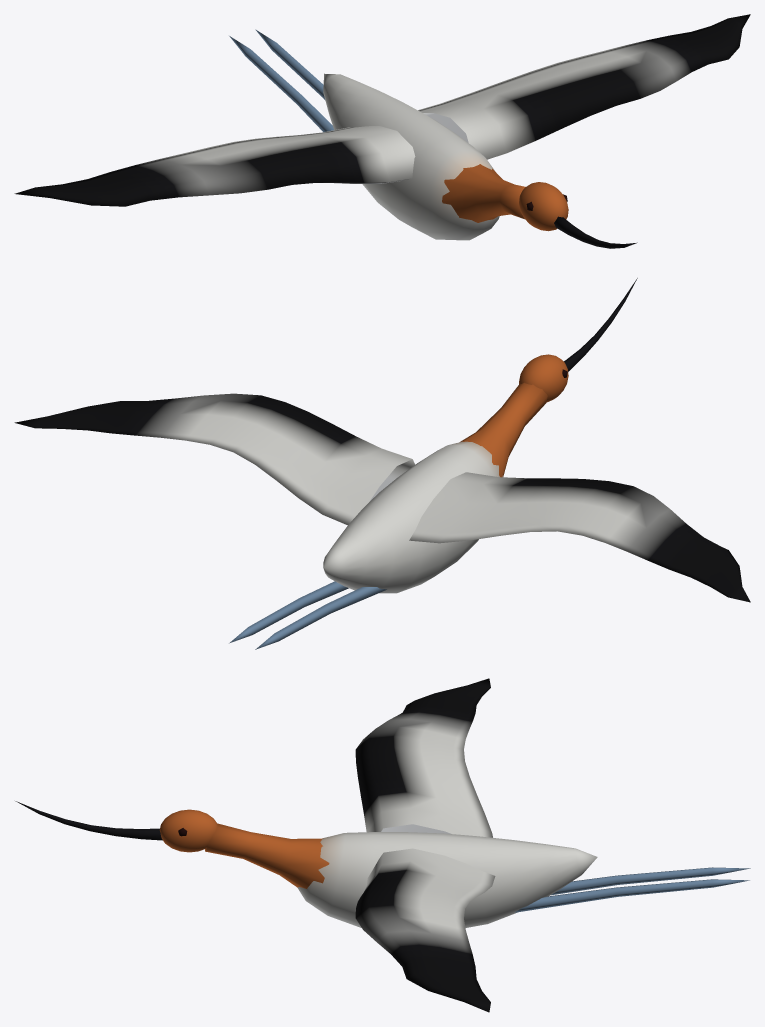
Rendered from AmericanAvocetFlight.fbx.
The picture shows the model from 3 angles, top to bottom: view 1: azimuth 30°, elevation 25°; view 2: azimuth 150°, elevation 25°; view 3: azimuth 270°, elevation 25°; orthographic projection. The views are drawn at different scales.
Visible parts, largest first — view 1: AmericanAvocetFlight; view 2: AmericanAvocetFlight; view 3: AmericanAvocetFlight.
Boxes of the visible parts, x1,y1,x2,y2 form: AmericanAvocetFlight: (14, 14, 750, 248); AmericanAvocetFlight: (14, 278, 750, 649); AmericanAvocetFlight: (15, 678, 750, 1012).
Bounding box in the file's own units: 1.24 × 0.223 × 1.15.
